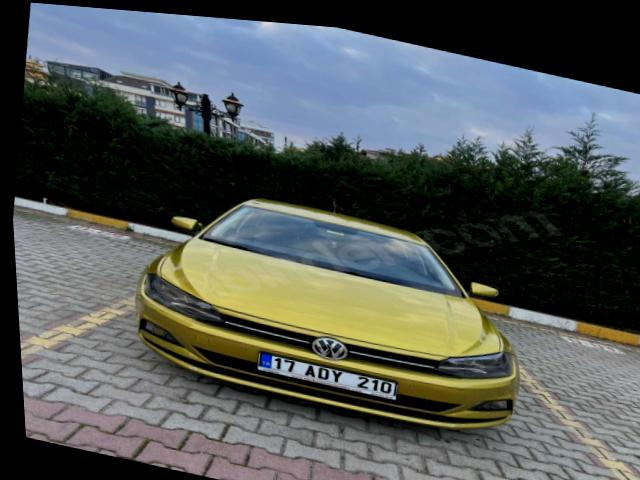plaka: (258, 354, 397, 400)
